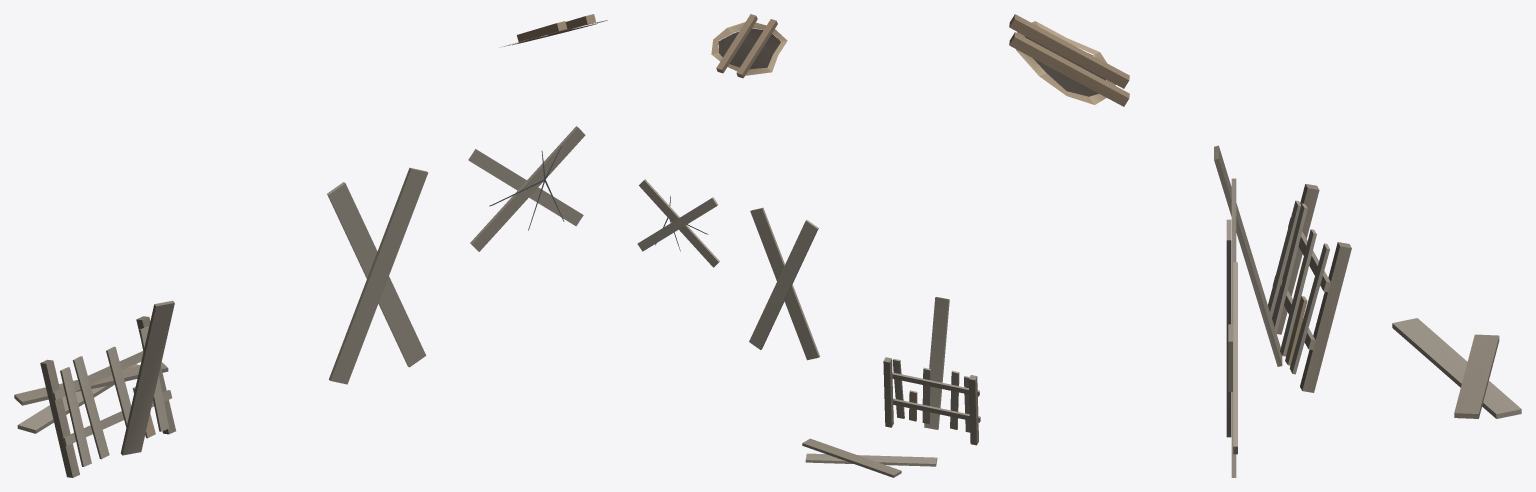
File: house_broken_hut_low.glb
The picture shows the model from 3 angles, left to right: view 1: azimuth 30°, elevation 25°; view 2: azimuth 150°, elevation 25°; view 3: azimuth 270°, elevation 25°; orthographic projection. The views are drawn at different scales.
Size of the model in its own units: 4.6 by 3.74 by 3.1.
